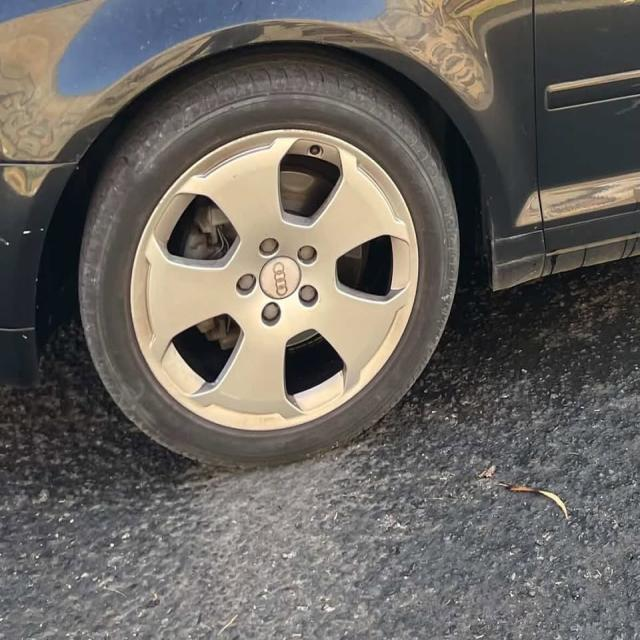jante: (128, 129, 419, 432)
parafuso: (230, 268, 259, 300), (254, 234, 282, 259), (260, 302, 285, 329), (297, 283, 321, 308), (296, 241, 318, 267)
roda: (76, 57, 462, 469)
